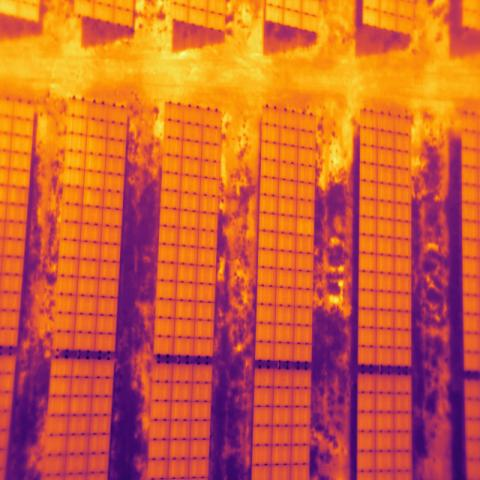fault: (297, 216, 314, 237)
